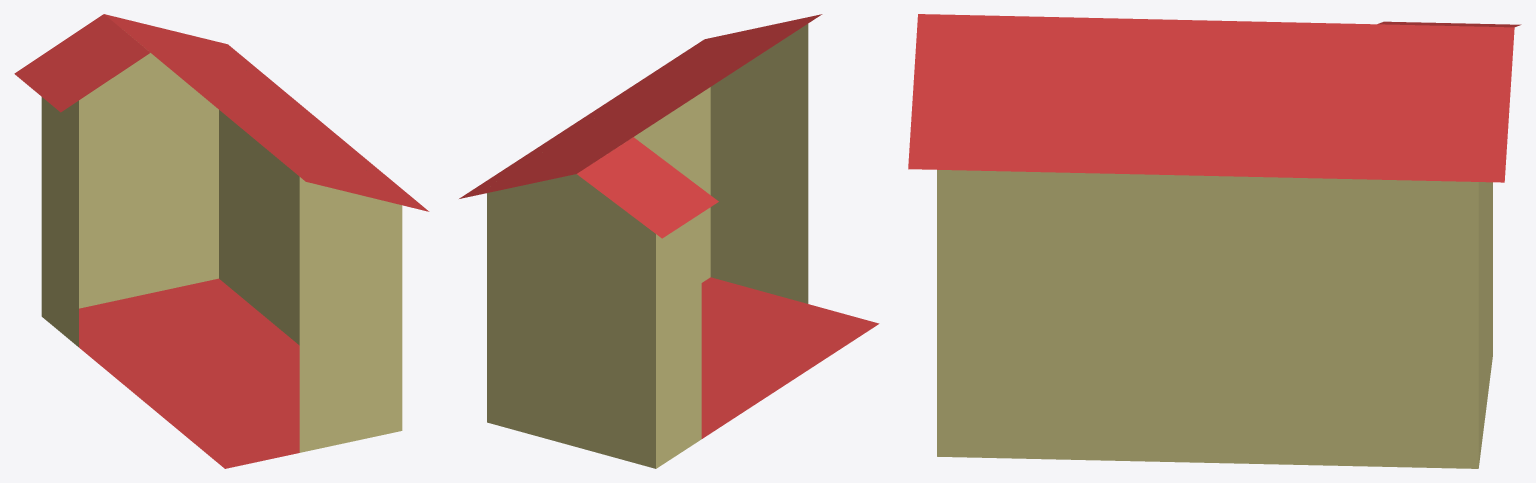
The picture shows the model from 3 angles, left to right: view 1: azimuth 30°, elevation 25°; view 2: azimuth 150°, elevation 25°; view 3: azimuth 270°, elevation 25°; orthographic projection. The views are drawn at different scales.
Bounding box in the file's own units: 5.97 × 11.15 × 7.52.
